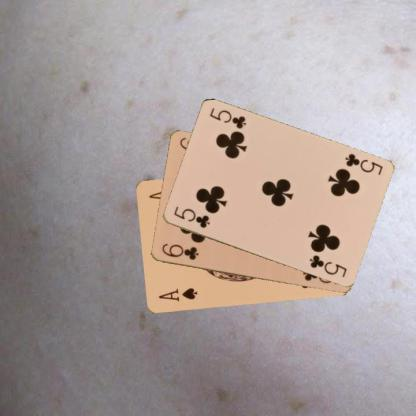5c: (342, 151, 384, 177), (171, 203, 211, 230)
6c: (159, 241, 200, 262)
As: (156, 286, 198, 304)
